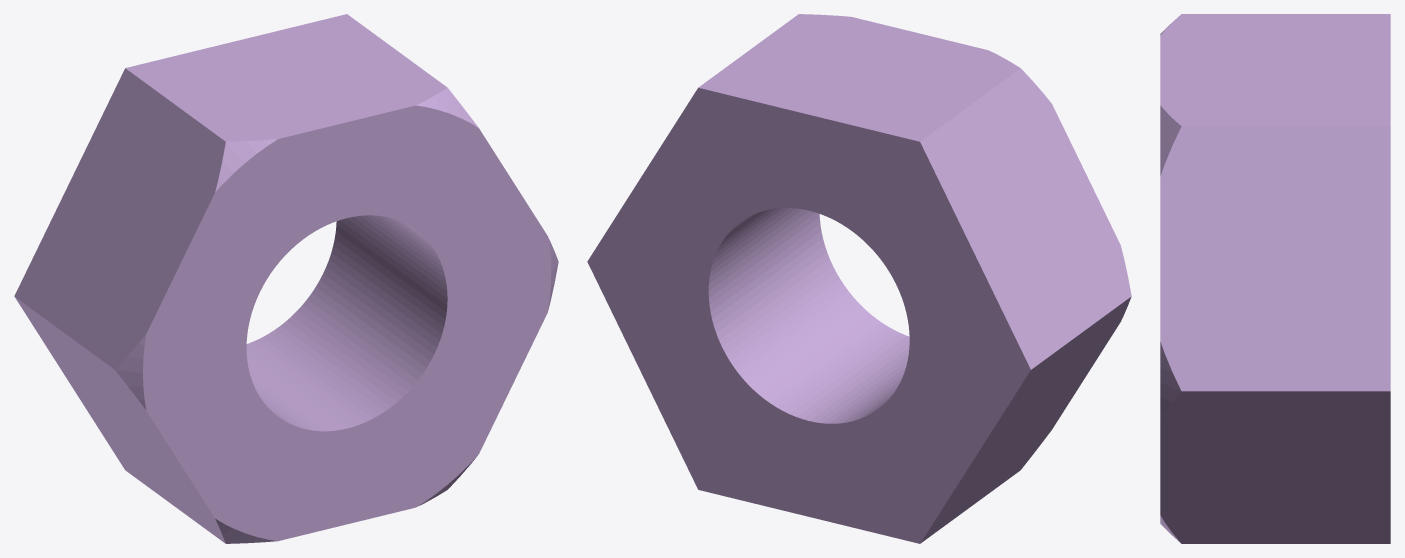
Rendered from hex_corner_chamfer_demo.glb.
3 renders of one model, left to right at view 1: azimuth 30°, elevation 25°; view 2: azimuth 150°, elevation 25°; view 3: azimuth 270°, elevation 25°, orthographic. The views are drawn at different scales.
Parts seen in each view (by area): view 1: chamfered_hex_nut; view 2: chamfered_hex_nut; view 3: chamfered_hex_nut.
Part boxes in pixels (x1,y1,x2,y2): chamfered_hex_nut: (14,14,558,543); chamfered_hex_nut: (587,14,1131,543); chamfered_hex_nut: (1160,14,1390,543).
Size of the model in its own units: 15.01 by 13 by 6.5.
